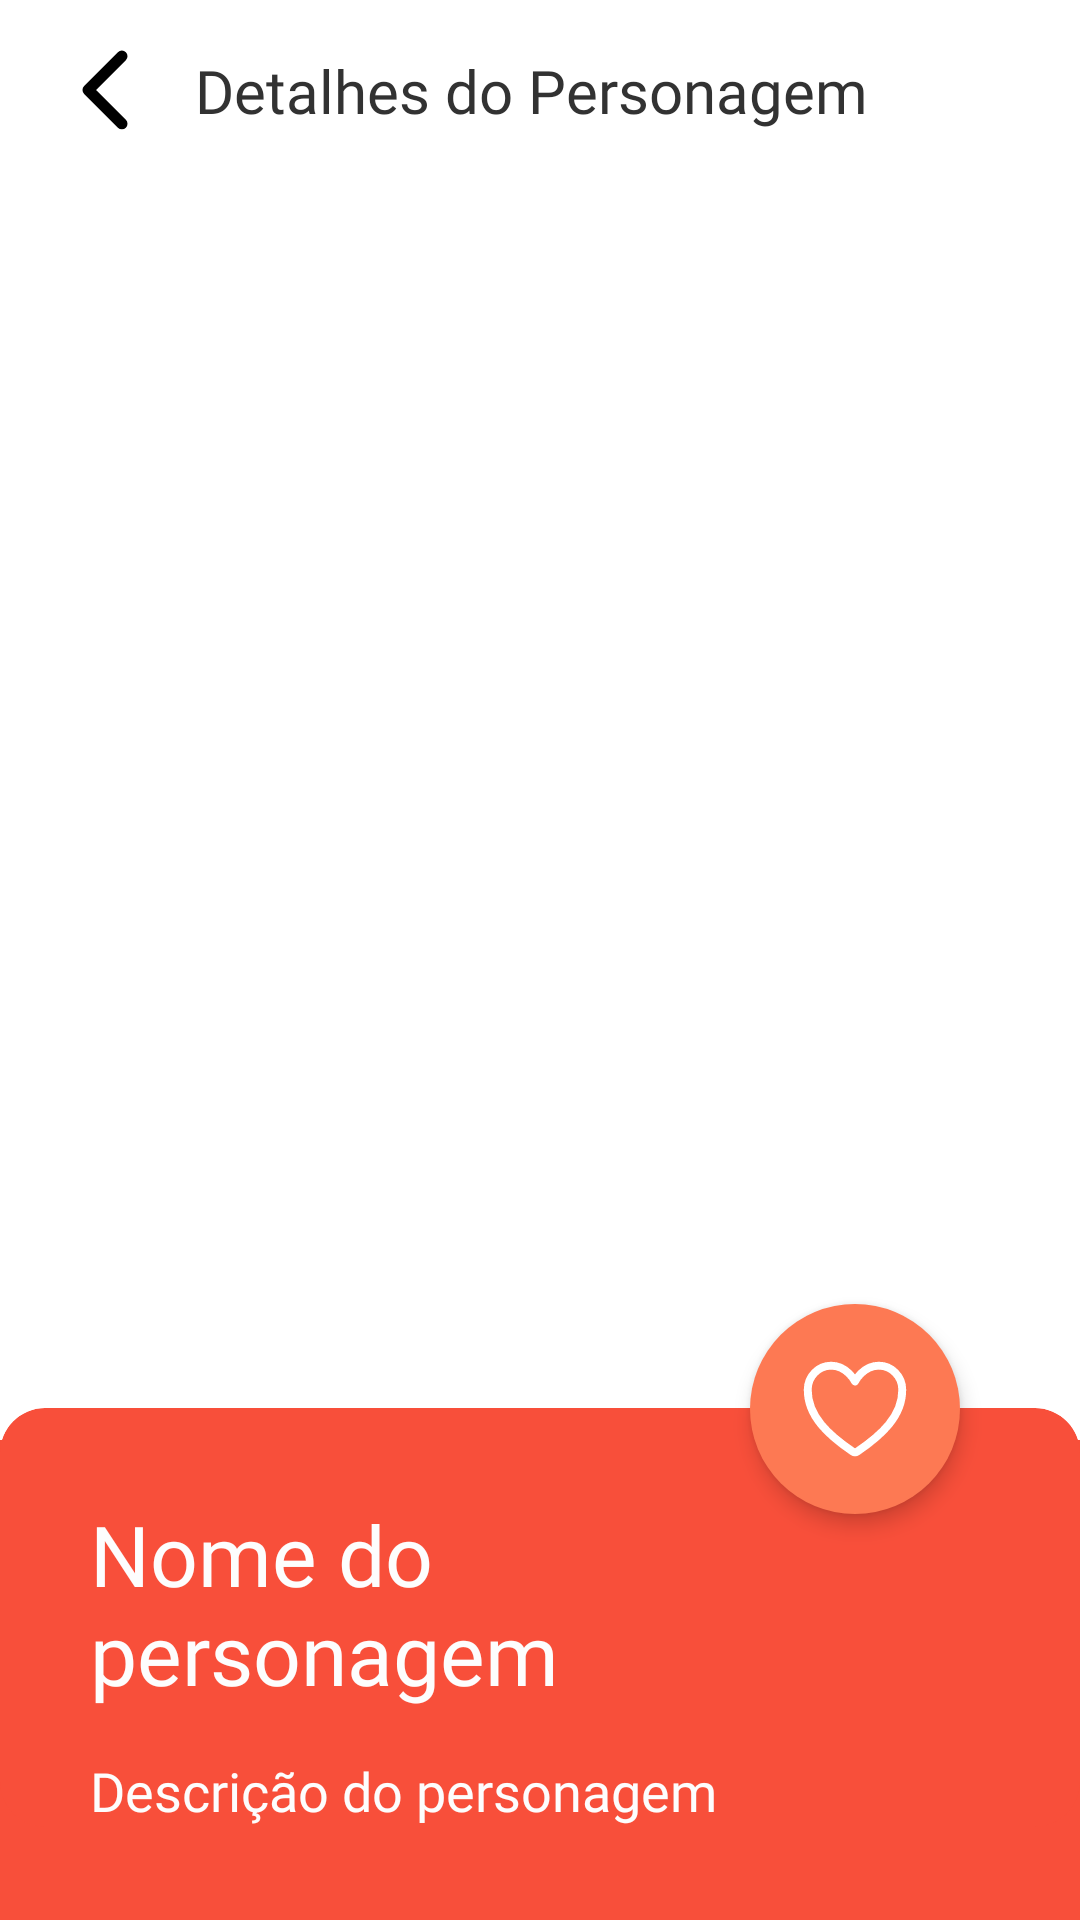

Point at icon controls on the screen. Image size 1080px x 1920px, points as (x=x, y=y).
Botão para favoritar o personagem: (x=855, y=1409)
Voltar: (x=105, y=90)
